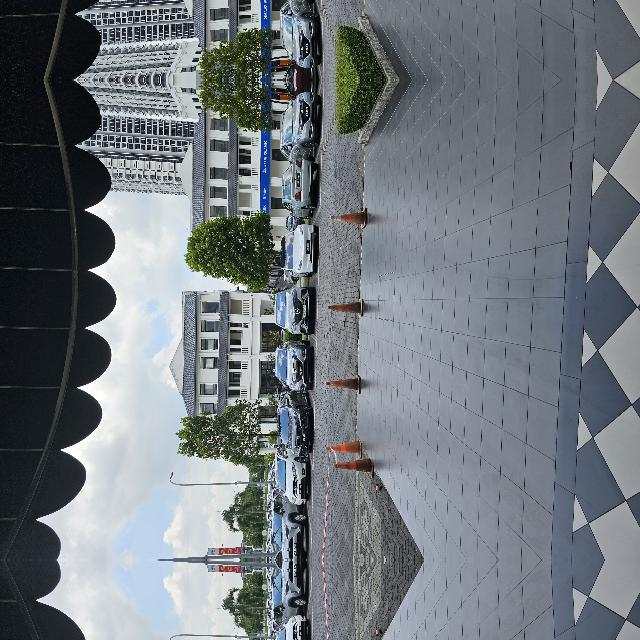obstacle: (88, 399, 120, 445), (336, 408, 356, 446), (241, 406, 259, 442), (164, 406, 182, 440)
